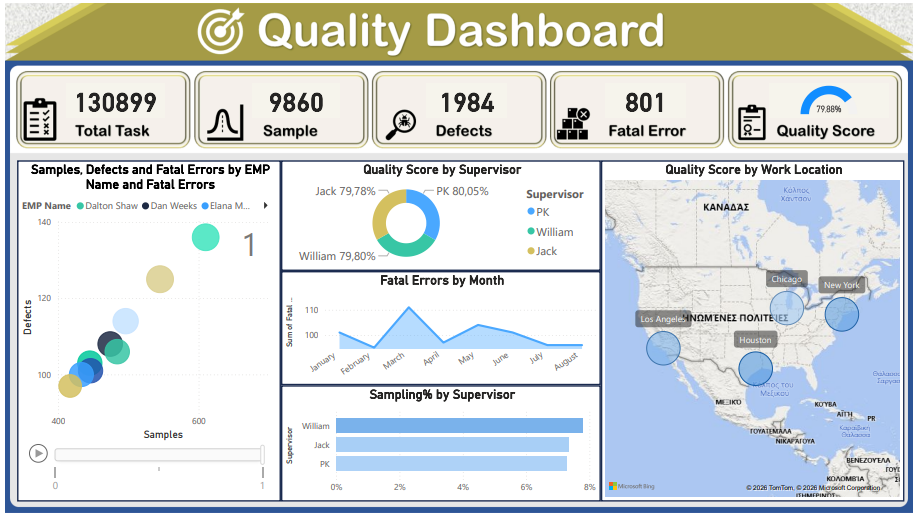

What the dashboard file says about the page in this screenshot:
{"tool":"powerbi","page":{"name":"Quality Dashboard","canvas":[1280,720],"ordinal":0},"visuals":[{"type":"card","fields":{"Values":["Quality Data.Total Task"]},"box":[86.3,113.4,138.8,49.1],"z":0},{"type":"card","fields":{"Values":["Quality Data.Samples"]},"box":[348.8,113.4,123.6,49.1],"z":1000},{"type":"card","fields":{"Values":["Quality Data.Defects"]},"box":[594.3,113.4,113.4,49.1],"z":2000},{"type":"card","fields":{"Values":["Quality Data.Fatal Errors"]},"box":[846.6,113.4,113.4,49.1],"z":3000},{"type":"gauge","fields":{"Y":["Quality Data.Quality Score"]},"box":[1077.2,113.4,168.7,49.6],"z":4000},{"type":"scatterChart","fields":{"X":["Quality Data.Samples"],"Y":["Quality Data.Defects"],"Size":["Quality Data.Fatal Errors"],"Series":["Emp Master.EMP Name"],"Play":["Quality Data.Fatal Errors"]},"box":[16.9,223.5,372.5,480.8],"z":5000},{"type":"areaChart","title":"Fatal Errors by Month","fields":{"Y":["Quality Data.Fatal Errors"],"Category":["Quality Data.Date.Variation.Date Hierarchy.Month"]},"box":[389.4,379.3,450.4,160.8],"z":6000},{"type":"donutChart","fields":{"Y":["Quality Data.Quality Score"],"Category":["Emp Master.Supervisor"]},"box":[389.4,223.5,450.4,155.8],"z":7000},{"type":"clusteredBarChart","fields":{"Y":["Quality Data.Sampling%"],"Category":["Emp Master.Supervisor"]},"box":[389.4,540.1,450.4,164.2],"z":8000},{"type":"map","fields":{"Category":["Emp Master.Work Location"],"Size":["Quality Data.Quality Score"]},"box":[839.8,223.5,428.4,480.8],"z":9000}]}

Visuals, with their boxes in screenshot pixels (x1, y1, x2, y2), scaled from the page's 1280x720 canvas onto the 920x519 screenshot:
card - Quality Data.Total Task: 62, 82, 162, 117
card - Quality Data.Samples: 251, 82, 340, 117
card - Quality Data.Defects: 427, 82, 509, 117
card - Quality Data.Fatal Errors: 608, 82, 690, 117
gauge - Quality Data.Quality Score: 774, 82, 895, 117
scatterChart - Quality Data.Samples x Quality Data.Defects: 12, 161, 280, 508
"Fatal Errors by Month" areaChart: 280, 273, 604, 389
donutChart - Quality Data.Quality Score x Emp Master.Supervisor: 280, 161, 604, 273
clusteredBarChart - Quality Data.Sampling% x Emp Master.Supervisor: 280, 389, 604, 508
map - Emp Master.Work Location x Quality Data.Quality Score: 604, 161, 912, 508
